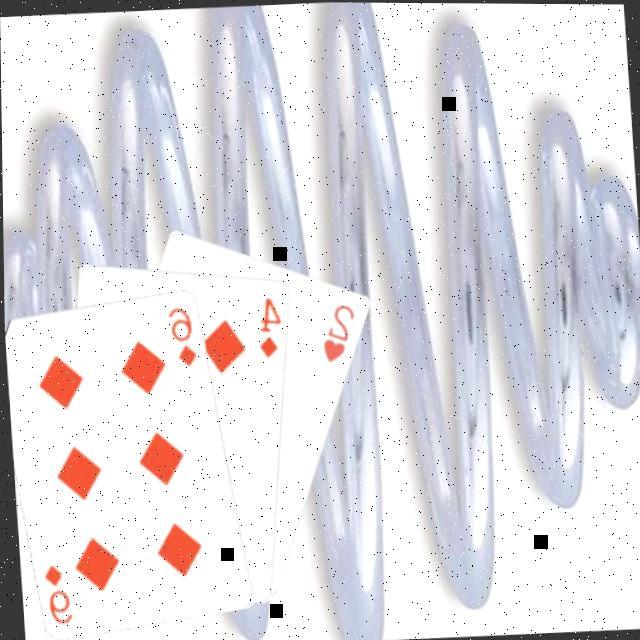2H: (318, 300, 362, 366)
4D: (255, 293, 288, 361)
6D: (166, 302, 202, 370), (41, 560, 77, 628)
